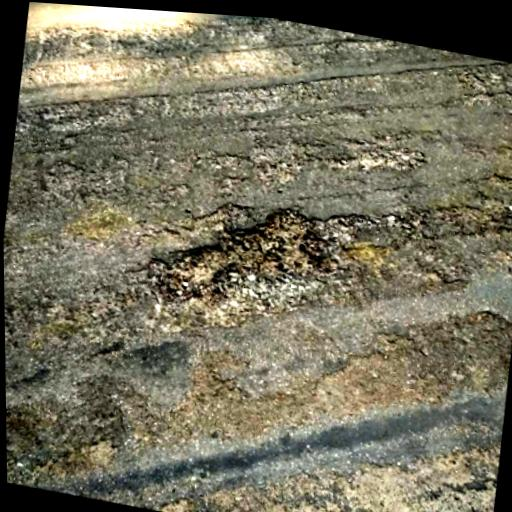pothole: (142, 177, 335, 332), (333, 133, 427, 184)
